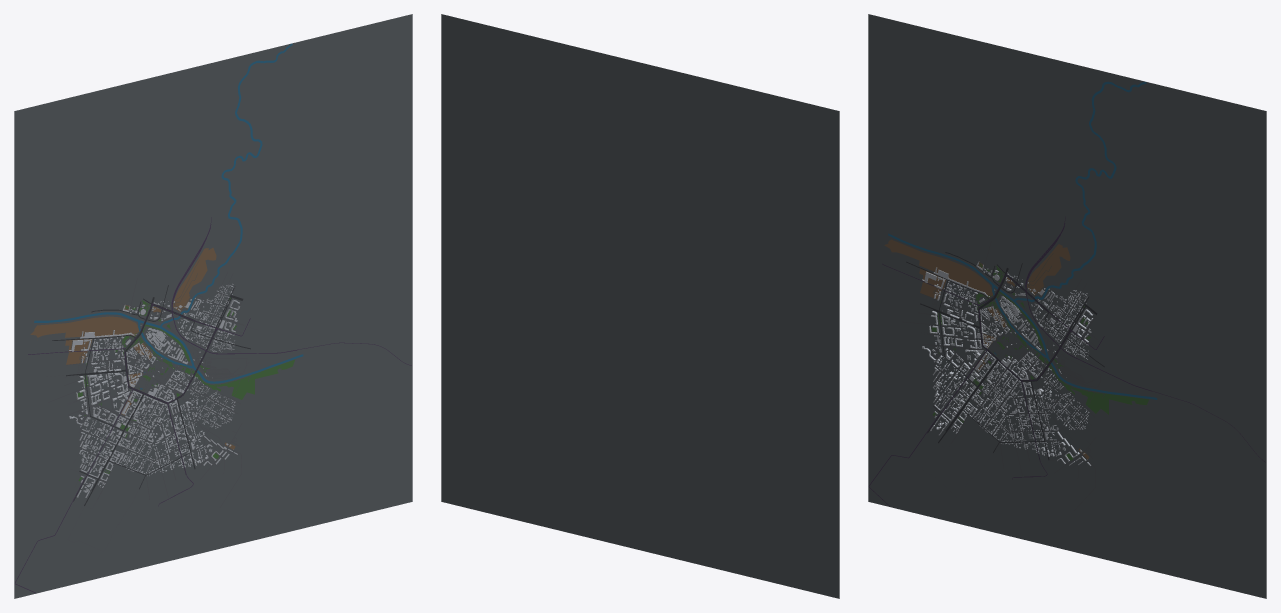
Rendered from tula_center_greybox.obj.
3 renders of one model, left to right at view 1: azimuth 30°, elevation 25°; view 2: azimuth 150°, elevation 25°; view 3: azimuth 330°, elevation 25°, orthographic.
Parts seen in each view (by area): view 1: ground, buildings, roads, landuse, waterways, railways; view 2: ground; view 3: ground, buildings, roads, landuse, waterways, railways.
Boxes of the visible parts, x1=… form: ground: x1=14, y1=14, x2=412, y2=598; buildings: x1=68, y1=283, x2=239, y2=497; roads: x1=46, y1=260, x2=256, y2=550; landuse: x1=30, y1=248, x2=294, y2=481; waterways: x1=34, y1=43, x2=303, y2=383; railways: x1=15, y1=217, x2=411, y2=593; ground: x1=441, y1=14, x2=839, y2=598; ground: x1=868, y1=14, x2=1266, y2=598; buildings: x1=922, y1=261, x2=1092, y2=465; roads: x1=902, y1=241, x2=1111, y2=510; landuse: x1=884, y1=239, x2=1148, y2=460; waterways: x1=888, y1=81, x2=1157, y2=399; railways: x1=868, y1=216, x2=1265, y2=506.
Size of the model in its own units: 6772 by 7929 by 57.6.
